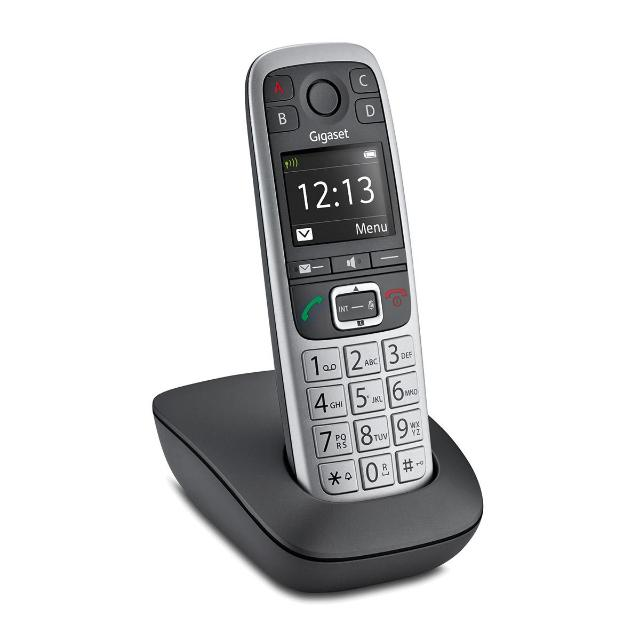Telephone-Set: (74, 25, 640, 640)
